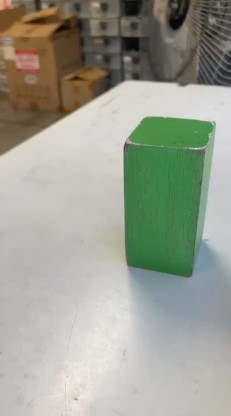green: (120, 141, 195, 269)
